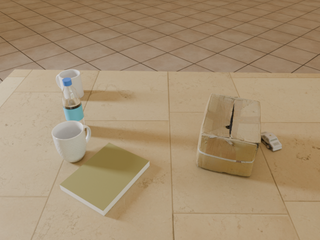book: (60, 143, 149, 216)
bottle: (62, 78, 86, 130)
box: (196, 93, 261, 176)
cup: (52, 120, 91, 162), (56, 70, 84, 98)
toy_car: (261, 131, 282, 151)
